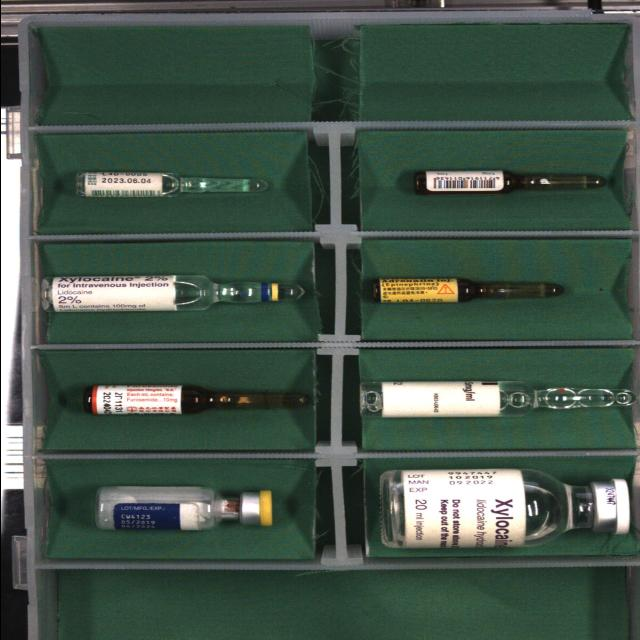Vials: (379, 468, 629, 549), (94, 486, 272, 530)
